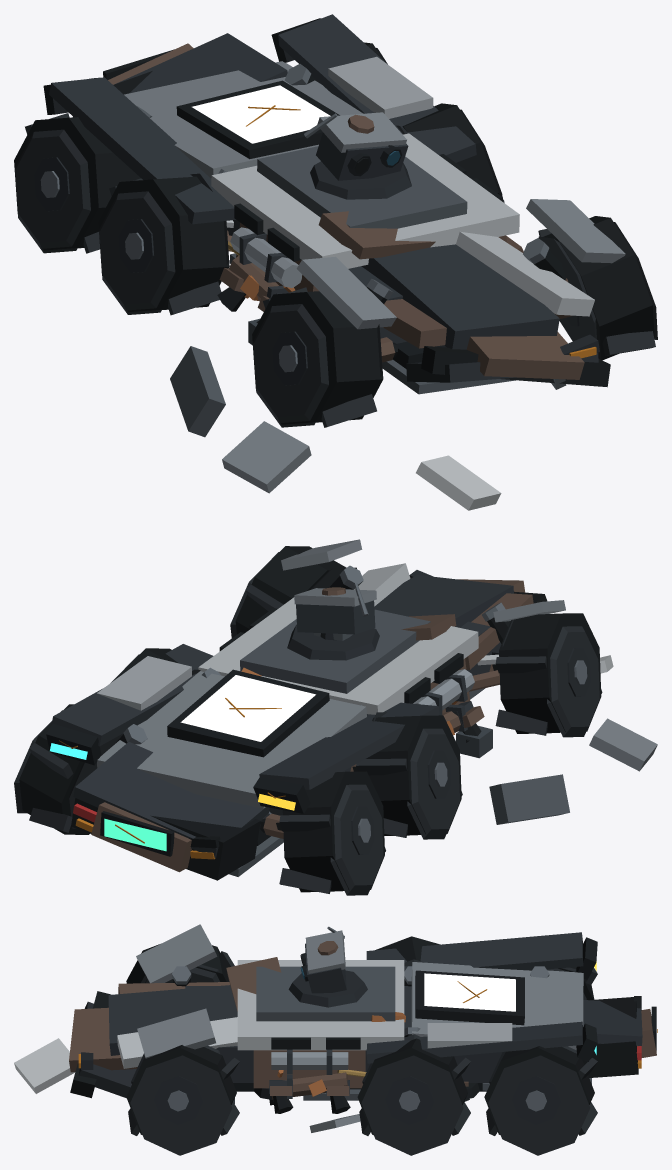
File: r47xs_recon_rover_d2_lod1.glb
3 views of the same model, one above another, from view 1: azimuth 30°, elevation 25°; view 2: azimuth 150°, elevation 25°; view 3: azimuth 270°, elevation 25° (orthographic). The views are drawn at different scales.
Parts seen in each view (by area): view 1: CHASSIS_ARMOR_BODY, ZONE_FRONT_BUMPER, WHEEL_FL, WHEEL_ML, ZONE_FLANK_NEG_X, WHEEL_RL, WHEEL_FR, ZONE_FLANK_POS_X, ZONE_REAR_PANEL, SENSOR_MAST_HEAD, DISPLAY_FDAI_TELEMETRY_PANEL, DEBRIS_FENDER_POS_X (+6 smaller); view 2: CHASSIS_ARMOR_BODY, ZONE_REAR_PANEL, WHEEL_FL, WHEEL_RL, WHEEL_ML, ZONE_FRONT_BUMPER, ZONE_FLANK_NEG_X, ZONE_FLANK_POS_X, WHEEL_RR, DISPLAY_FDAI_TELEMETRY_PANEL, WHEEL_FR, SENSOR_MAST_HEAD (+8 smaller); view 3: CHASSIS_ARMOR_BODY, ZONE_FRONT_BUMPER, WHEEL_RR, WHEEL_FR, WHEEL_MR, ZONE_FLANK_POS_X, ZONE_FLANK_NEG_X, ZONE_REAR_PANEL, DISPLAY_FDAI_TELEMETRY_PANEL, SENSOR_MAST_HEAD, DEBRIS_FRONT_BEAK, DEBRIS_FENDER_POS_X (+6 smaller).
Part boxes in pixels (x1,y1,x2,y2): CHASSIS_ARMOR_BODY: (124,61,519,368); ZONE_FRONT_BUMPER: (296,199,625,394); WHEEL_FL: (252,287,383,427); WHEEL_ML: (98,173,229,315); ZONE_FLANK_NEG_X: (43,77,318,301); WHEEL_RL: (14,113,140,253); WHEEL_FR: (538,216,657,360); ZONE_FLANK_POS_X: (271,14,506,242); ZONE_REAR_PANEL: (73,33,287,117); SENSOR_MAST_HEAD: (304,112,408,180); DISPLAY_FDAI_TELEMETRY_PANEL: (192,85,330,143); DEBRIS_FENDER_POS_X: (328,56,433,118); CHASSIS_ARMOR_BODY: (97,597,491,845); ZONE_REAR_PANEL: (71,742,283,880); WHEEL_FL: (495,613,602,737); WHEEL_RL: (279,771,385,895); WHEEL_ML: (356,712,462,839); ZONE_FRONT_BUMPER: (281,539,565,699); ZONE_FLANK_NEG_X: (253,653,474,813); ZONE_FLANK_POS_X: (46,608,277,765); WHEEL_RR: (14,704,123,834); DISPLAY_FDAI_TELEMETRY_PANEL: (180,675,315,741); WHEEL_FR: (230,546,356,637); SENSOR_MAST_HEAD: (294,583,376,640); CHASSIS_ARMOR_BODY: (185,957,583,1100); ZONE_FRONT_BUMPER: (69,924,237,1103); WHEEL_RR: (484,1046,597,1155); WHEEL_FR: (126,1045,239,1155); WHEEL_MR: (357,1034,470,1155); ZONE_FLANK_POS_X: (253,1021,597,1099); ZONE_FLANK_NEG_X: (366,932,597,979); ZONE_REAR_PANEL: (482,996,656,1090); DISPLAY_FDAI_TELEMETRY_PANEL: (424,973,515,1011); SENSOR_MAST_HEAD: (300,926,346,993); DEBRIS_FRONT_BEAK: (14,1038,75,1093); DEBRIS_FENDER_POS_X: (427,1023,512,1048).
Size of the model in its own units: 2.97 by 1.65 by 5.18.
